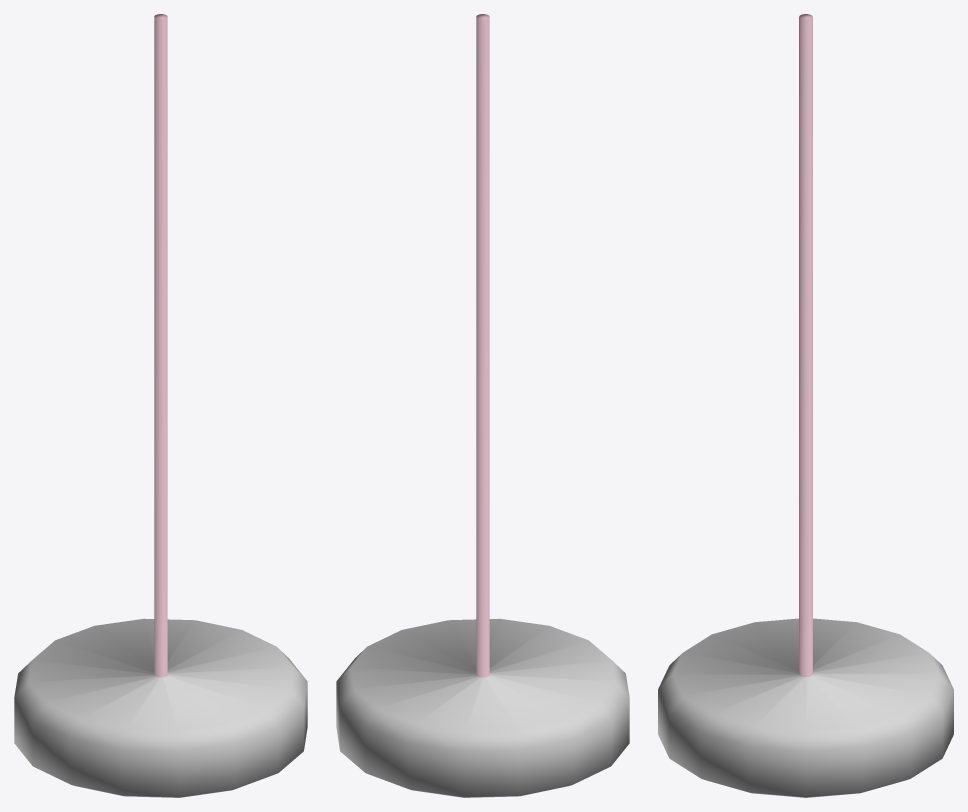
Rendered from mannequin_base.fbx.
3 views of the same model, side by side, from view 1: azimuth 30°, elevation 25°; view 2: azimuth 150°, elevation 25°; view 3: azimuth 270°, elevation 25° (orthographic).
Visible parts, largest first — view 1: Cylinder; view 2: Cylinder; view 3: Cylinder.
Part boxes in pixels (x1,y1,x2,y2): Cylinder: (14,14,307,797); Cylinder: (336,14,629,797); Cylinder: (658,14,953,797).
Size of the model in its own units: 5.08 by 13.67 by 5.08.
